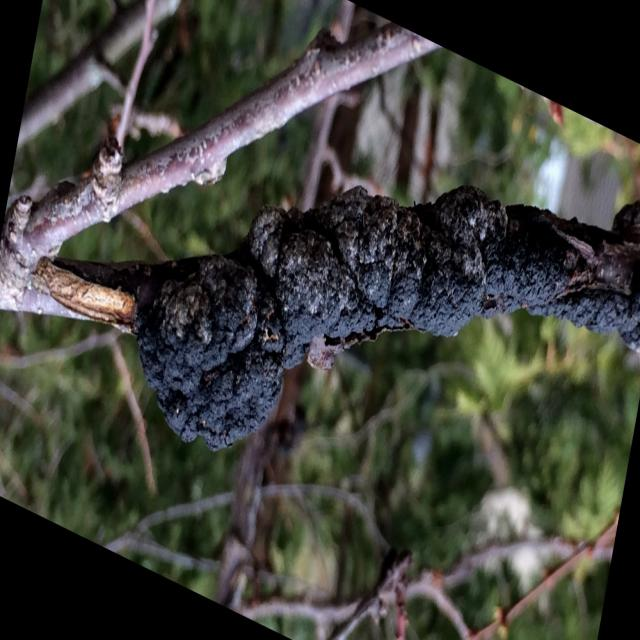Black_knot: (133, 181, 638, 452)
